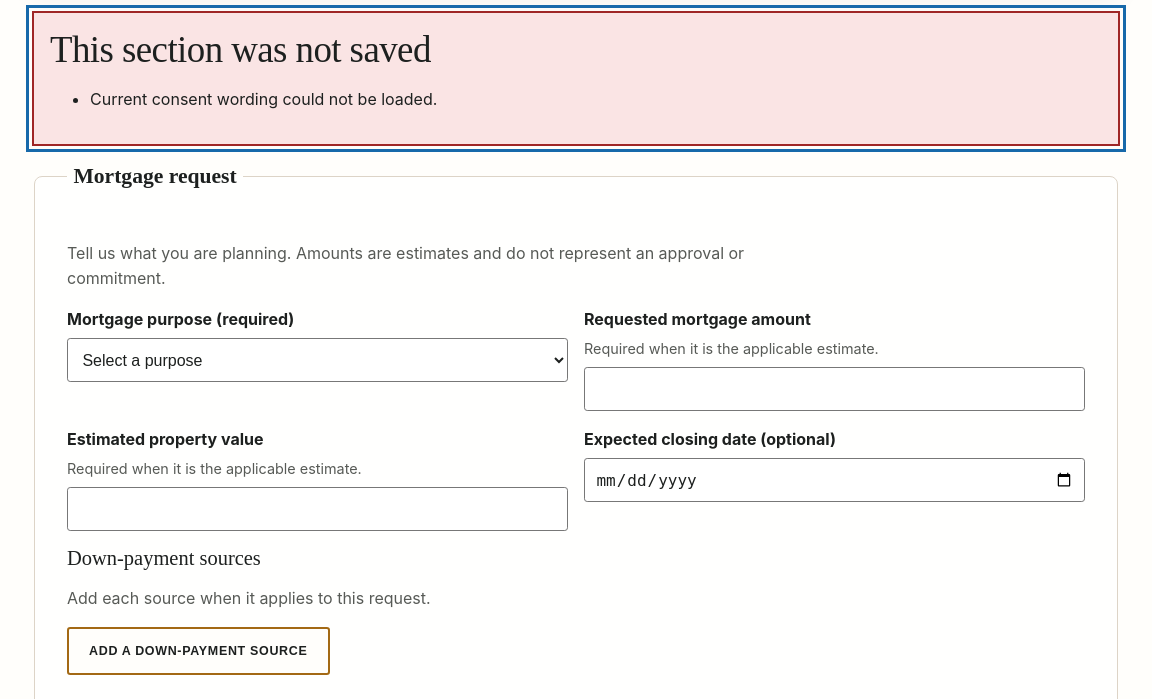
it: borrower details catch format mistakes before saving › discloses the SIN checksum in the field hint
(page scrolled)
Select "Pre-approval" in the dropdown labelled "Mortgage purpose (required)" at (318, 360), box [67,338,568,382]
(page scrolled)
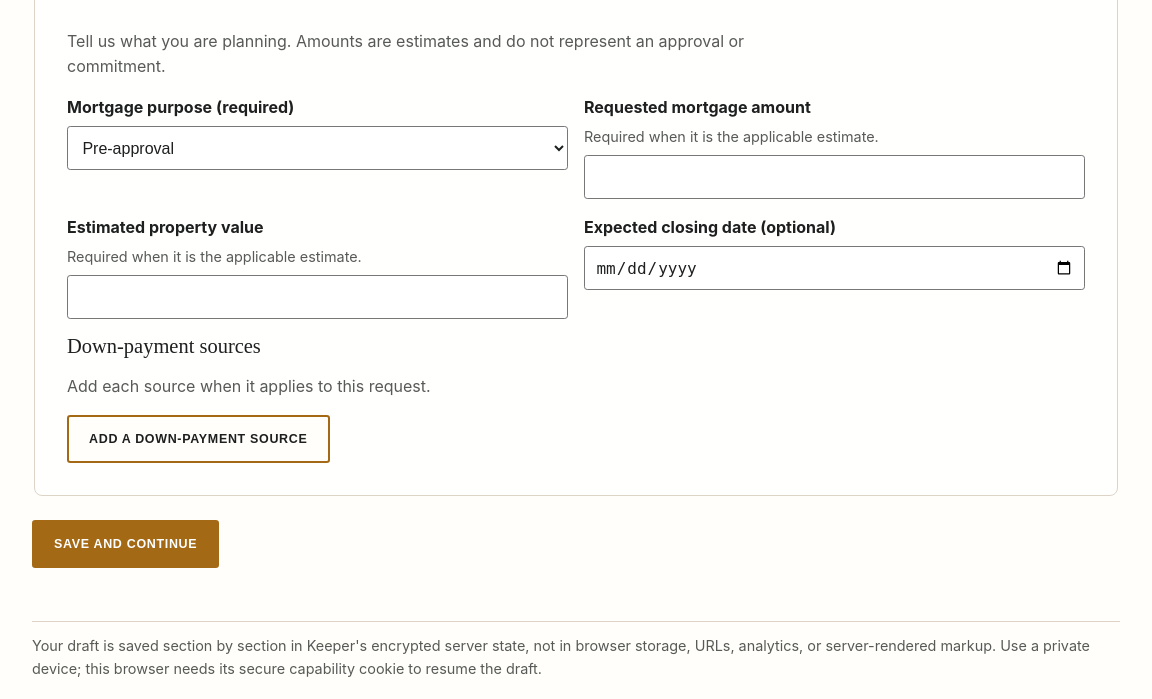
Click the button "Save and continue" at (126, 544), box [32,520,219,568]
(page scrolled)
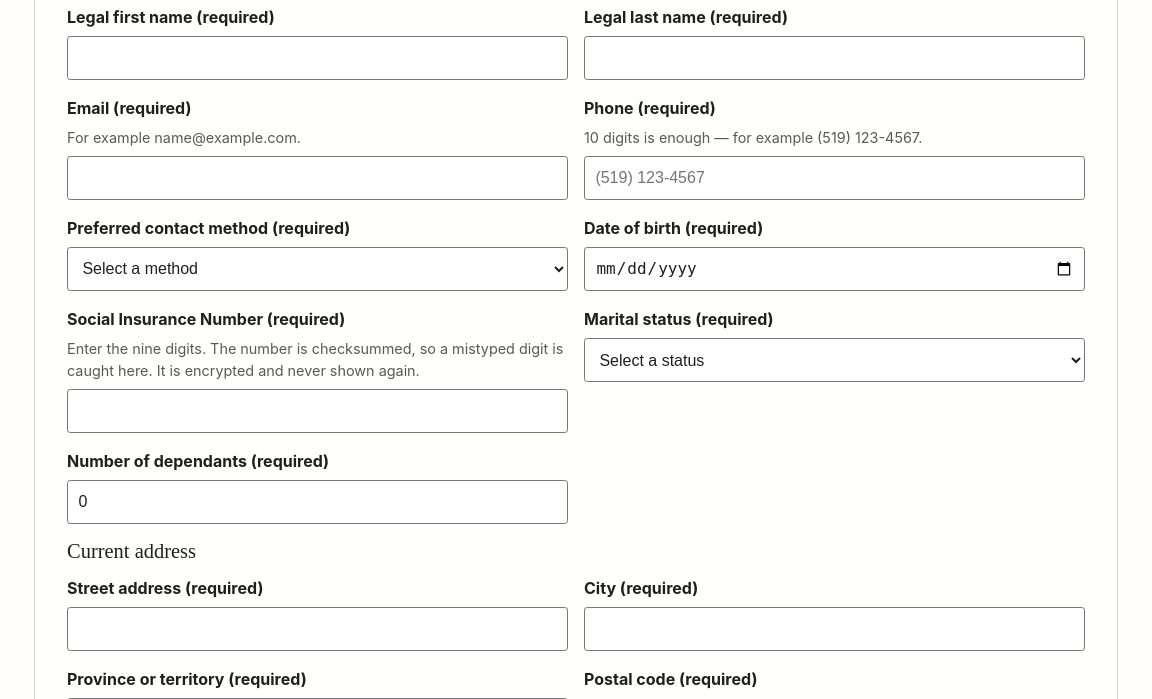
Expected: the text "checksummed" is shown, [67,340,563,379]
